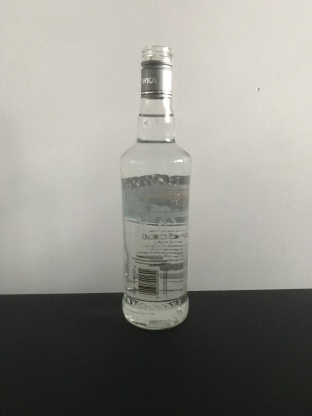nakretka: (138, 45, 174, 100)
